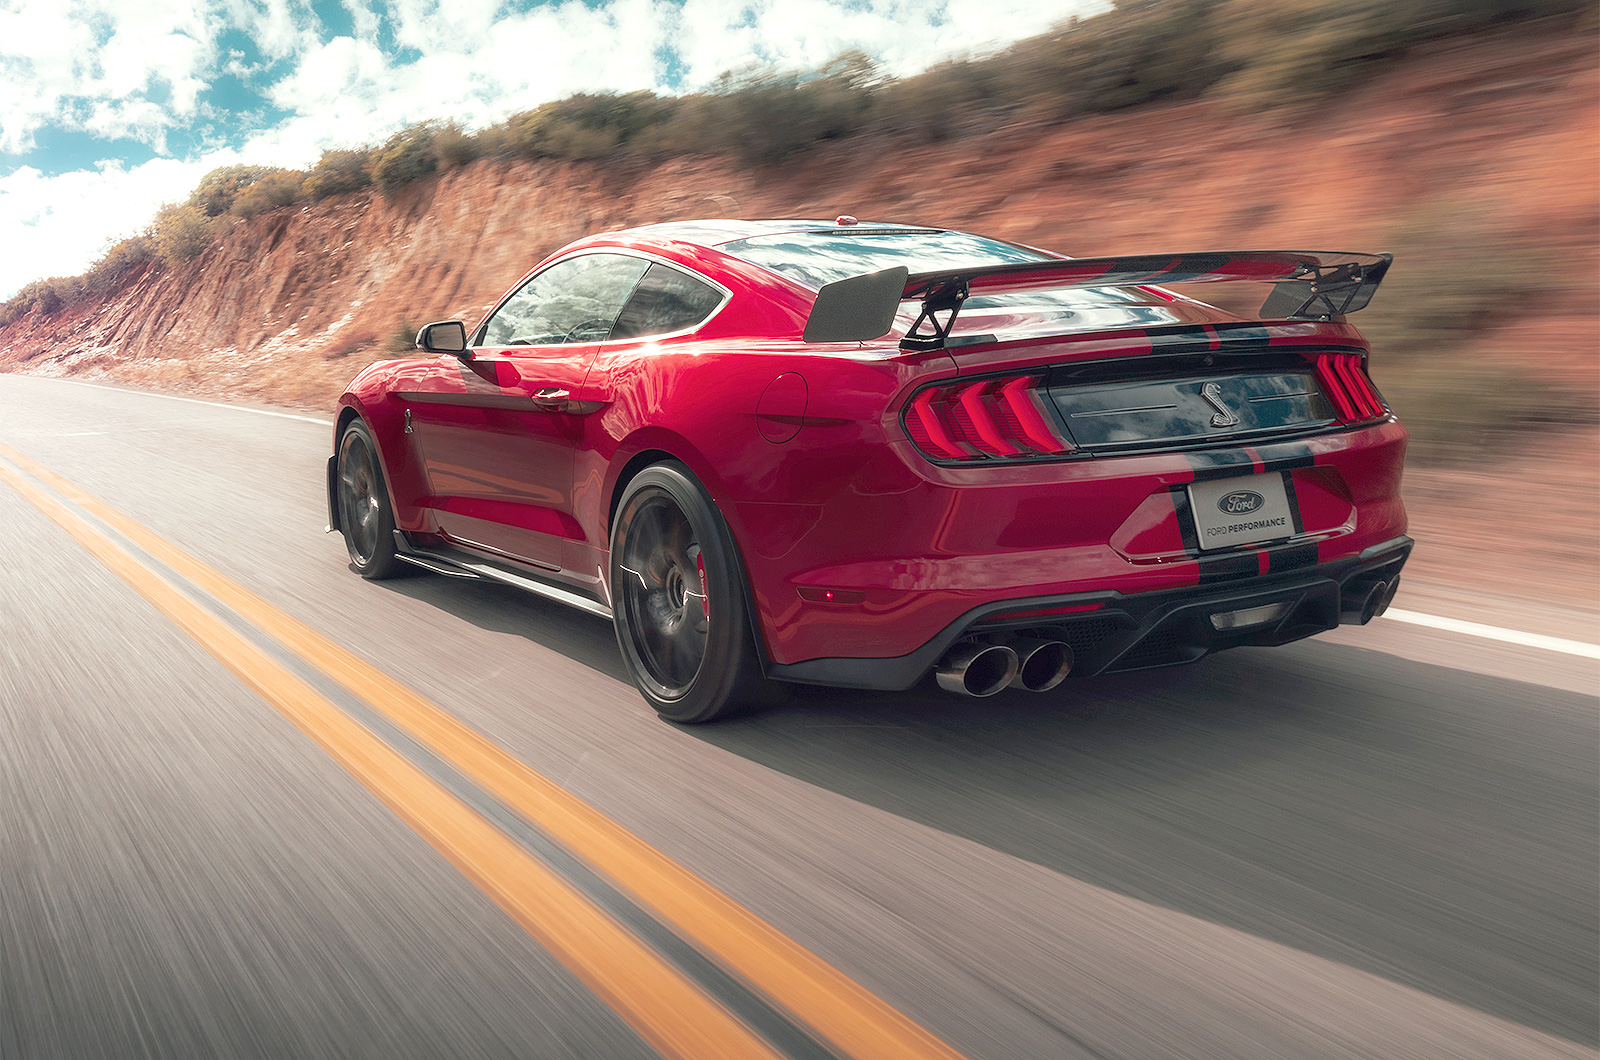headlight: (889, 364, 1073, 468), (1306, 340, 1406, 424)
wheel: (591, 447, 762, 726), (317, 403, 413, 583)
